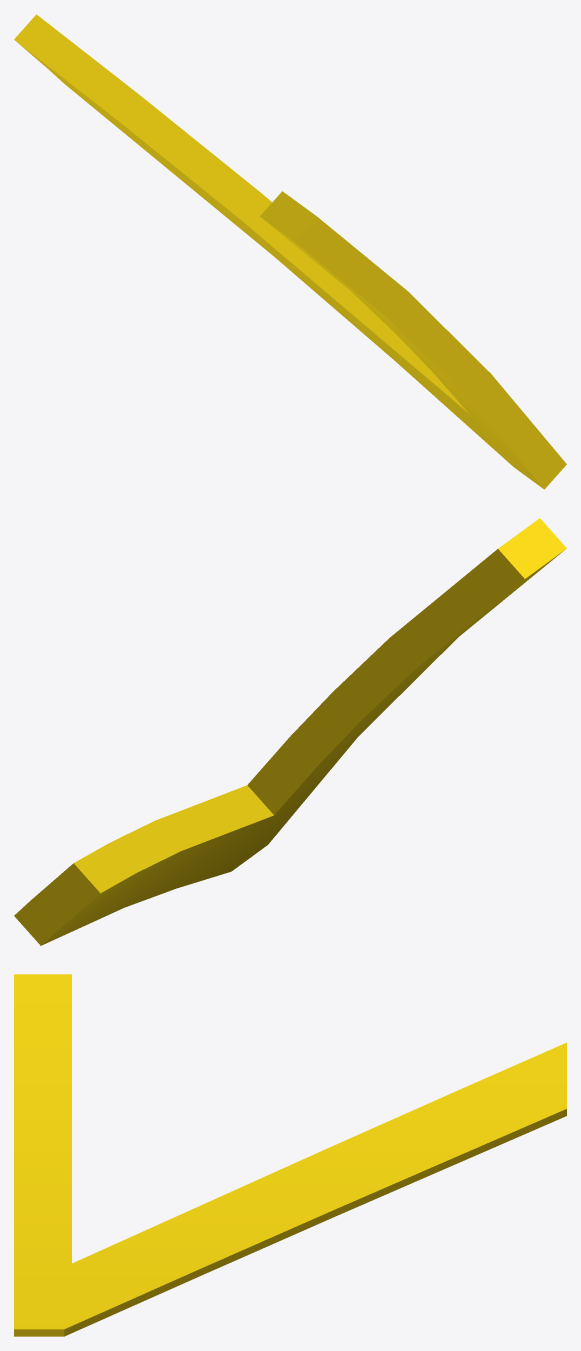
File: Number_7.gltf
3 renders of one model, top to bottom at view 1: azimuth 30°, elevation 25°; view 2: azimuth 150°, elevation 25°; view 3: azimuth 270°, elevation 25°, orthographic. The views are drawn at different scales.
Visible parts, largest first — view 1: Sub_4_Cell_1_1_Number_7; view 2: Sub_4_Cell_1_1_Number_7; view 3: Sub_4_Cell_1_1_Number_7.
Boxes of the visible parts, x1=… form: Sub_4_Cell_1_1_Number_7: x1=14, y1=14, x2=566, y2=489; Sub_4_Cell_1_1_Number_7: x1=14, y1=518, x2=566, y2=945; Sub_4_Cell_1_1_Number_7: x1=14, y1=974, x2=566, y2=1336.
Bounding box in the file's own units: 0.0118 × 0.0136 × 0.0252.
